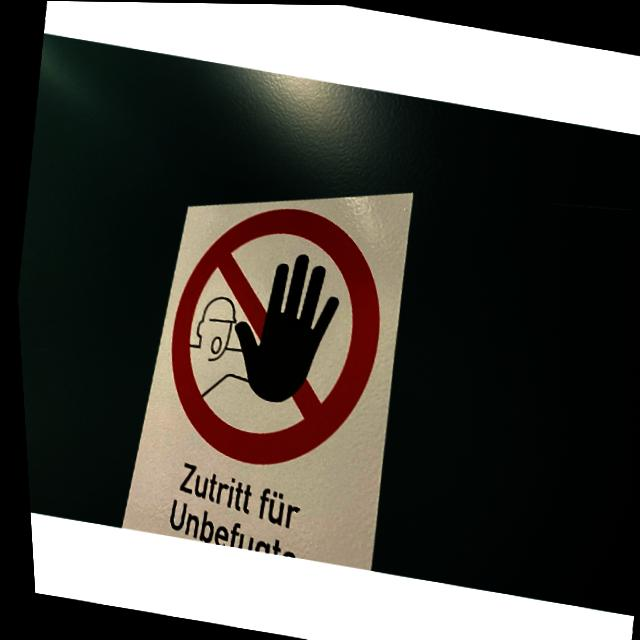No access for unauthorized persons: (144, 189, 398, 481)
